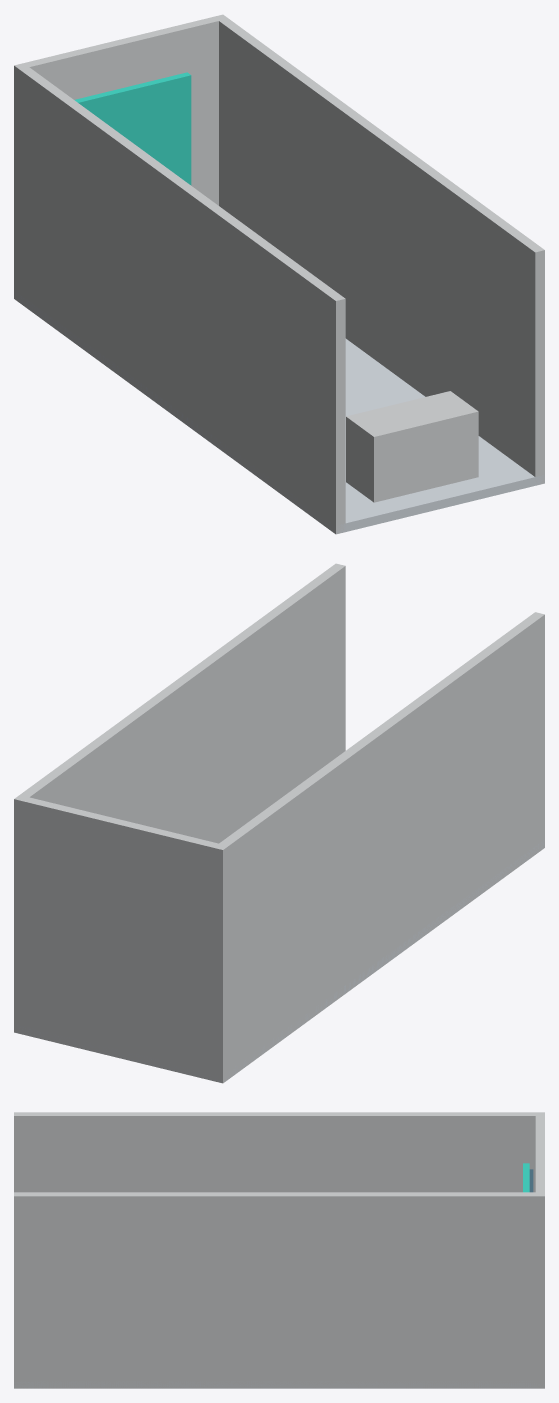
The picture shows the model from 3 angles, top to bottom: view 1: azimuth 30°, elevation 25°; view 2: azimuth 150°, elevation 25°; view 3: azimuth 270°, elevation 25°; orthographic projection. The views are drawn at different scales.
Visible parts, largest first — view 1: Exhibition Booth Concept; view 2: Exhibition Booth Concept; view 3: Exhibition Booth Concept.
Part boxes in pixels (box(x1,y1,x2,y2)): Exhibition Booth Concept: box(14, 14, 544, 534); Exhibition Booth Concept: box(14, 563, 544, 1083); Exhibition Booth Concept: box(14, 1112, 544, 1388).
Size of the model in its own units: 3 by 3.2 by 8.
